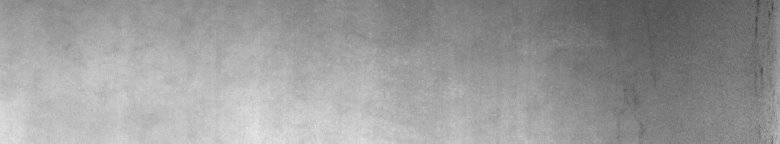ka: (749, 4, 776, 136)
